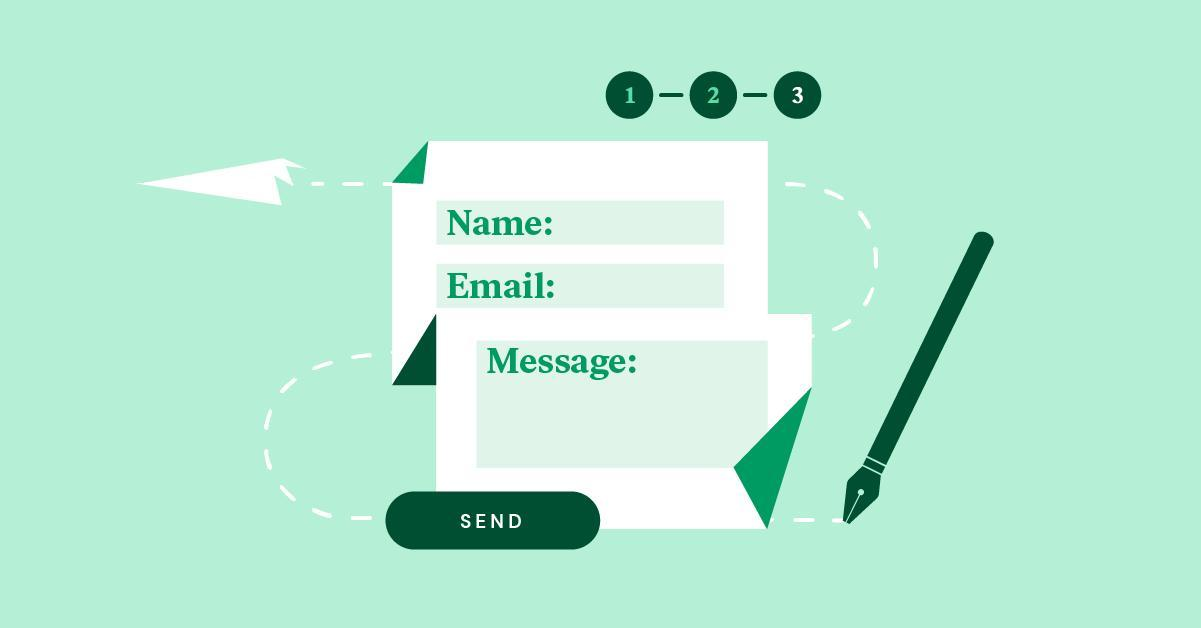button: (388, 491, 600, 550), (371, 525, 389, 527)
input: (478, 338, 770, 474), (432, 197, 725, 249), (437, 262, 725, 308)
